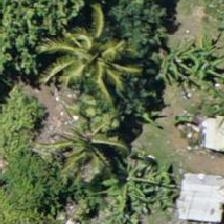coconut_tree: (39, 103, 129, 193), (44, 9, 134, 99)
